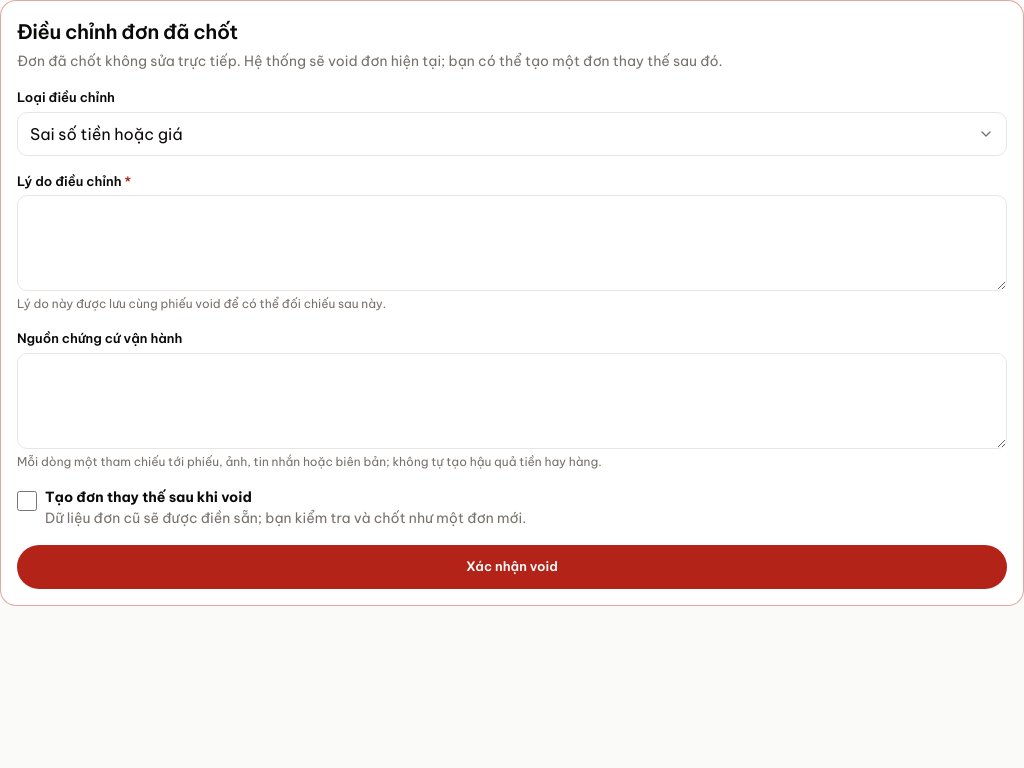
Test: SaleCorrectionPanel › requires a reason before a void-only correction can be submitted
This screenshot has width=1024, height=768.
What coordinates should you click on to do the following:
click the button "Xác nhận void"
I would click on:
 (512, 566)
Its box is [17,544,1007,588].
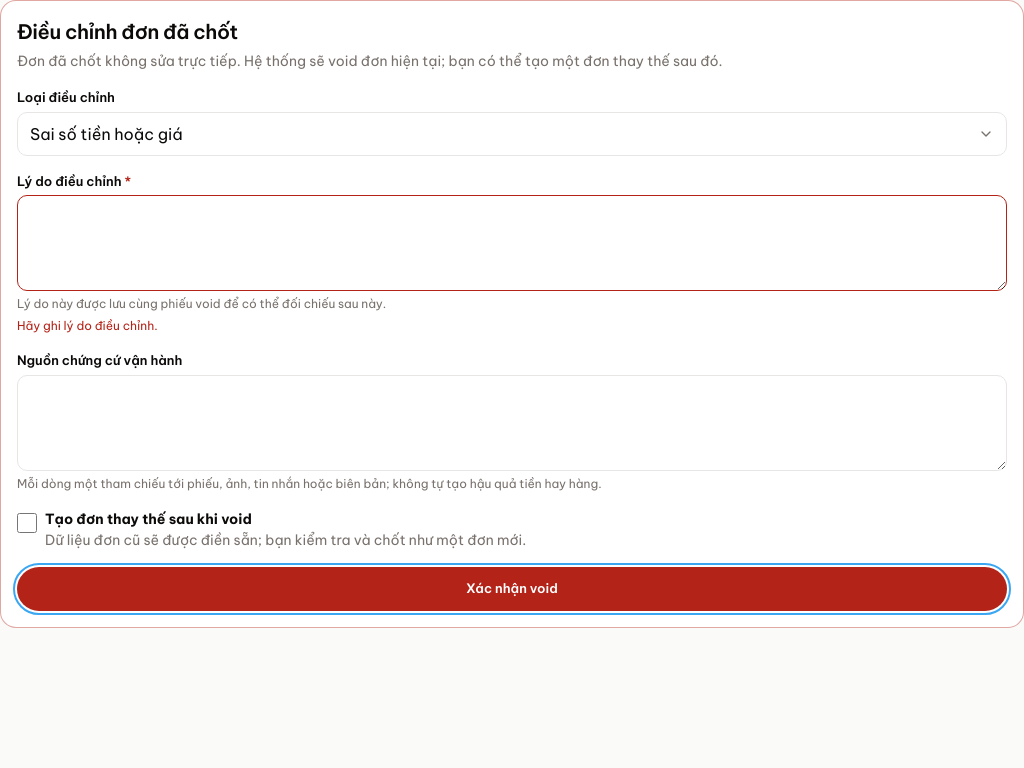
Result: the text "Hãy ghi lý do điều chỉnh." is shown at [17,318,158,333]
